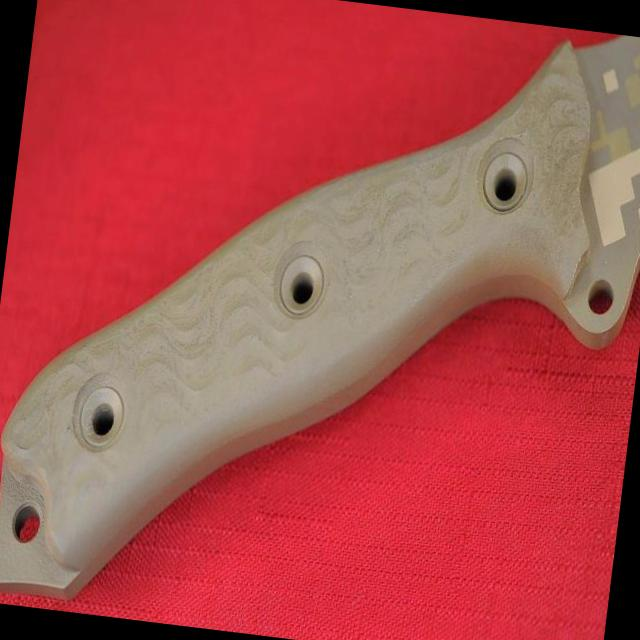Knife: (0, 35, 640, 598)
